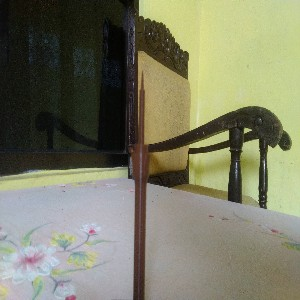solder: (132, 68, 151, 300)
